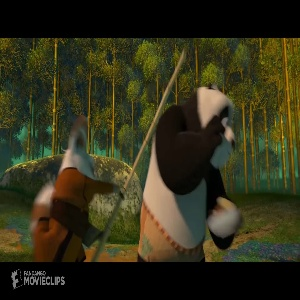po: (135, 81, 244, 262)
shifu: (29, 114, 126, 261)
